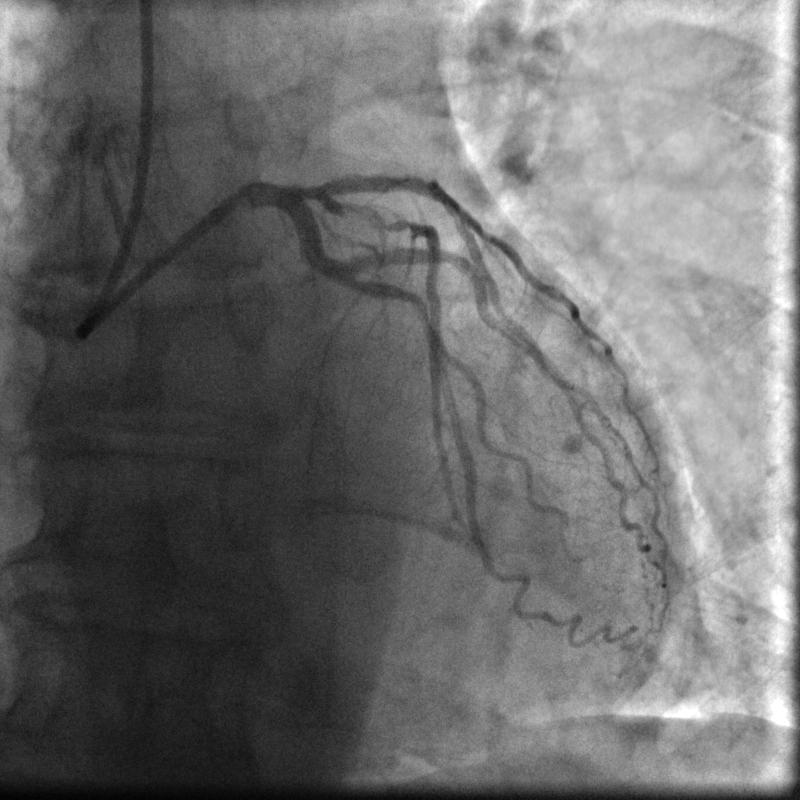Stenosis: (333, 191, 395, 232)
